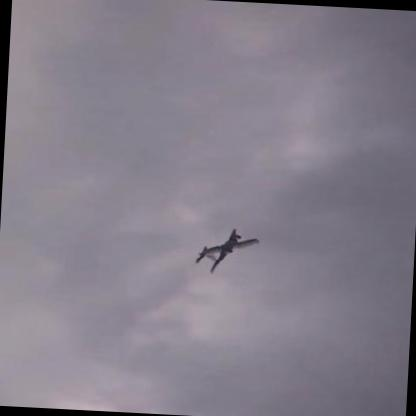plane: (194, 225, 259, 276)
